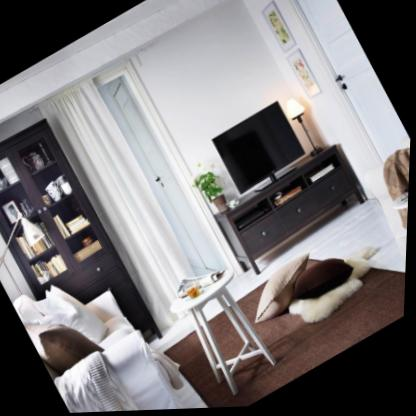Sofa: (10, 248, 207, 415)
Table: (160, 256, 293, 410), (383, 177, 411, 301)
